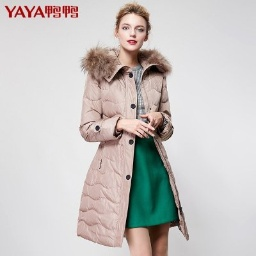face: (108, 1, 160, 56)
